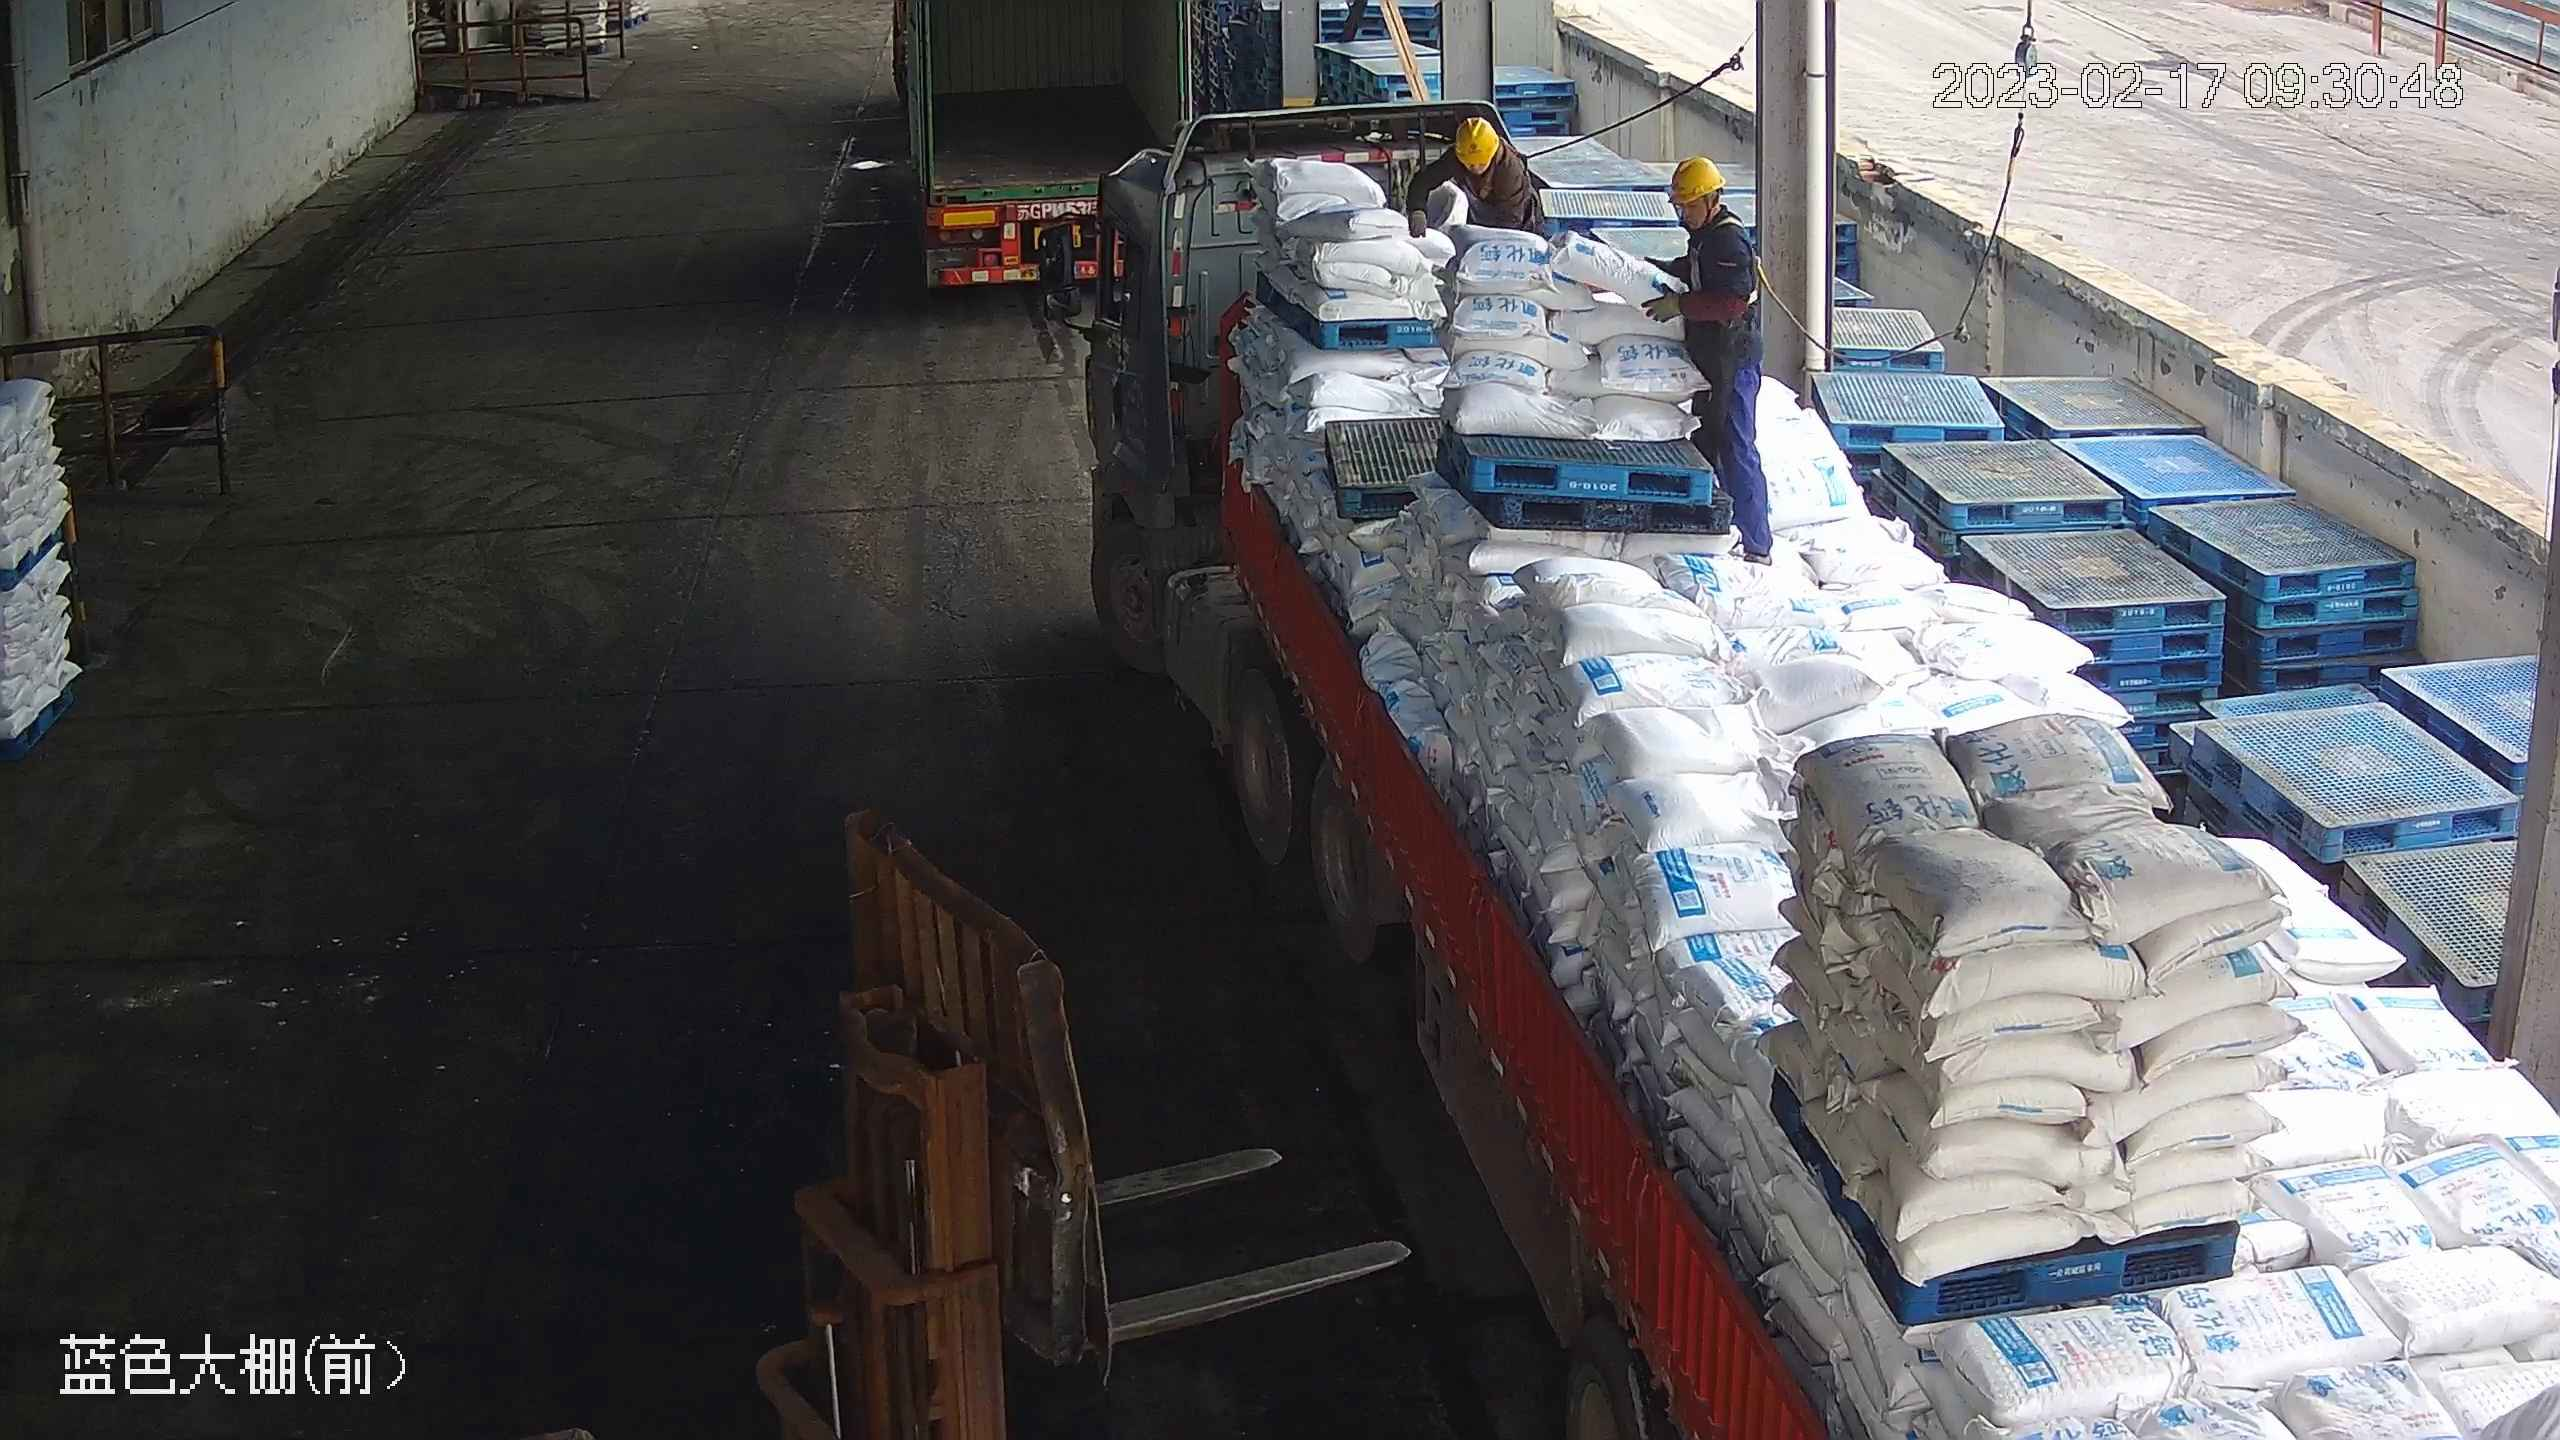belt: (1683, 214, 1776, 315), (1446, 163, 1507, 210)
head: (1405, 116, 1534, 217), (1667, 156, 1753, 279)
helmet: (1666, 153, 1726, 204), (1454, 116, 1499, 165)
people: (1638, 153, 1773, 565)
truck: (1030, 94, 2560, 1440), (886, 1, 1208, 328)
